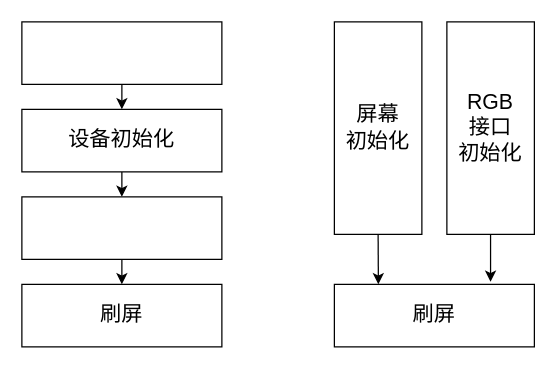
The diagram is 556 pixels wide and 369 high, and some of its shapes have lost their labels. The shapes that lost their labels are listed below. From the top down, each one's centre as x and y in pixels, then its label:
At (121,52): "I2C/SPI/8080 总线初始化".
At (121,227): "屏幕初始化".
